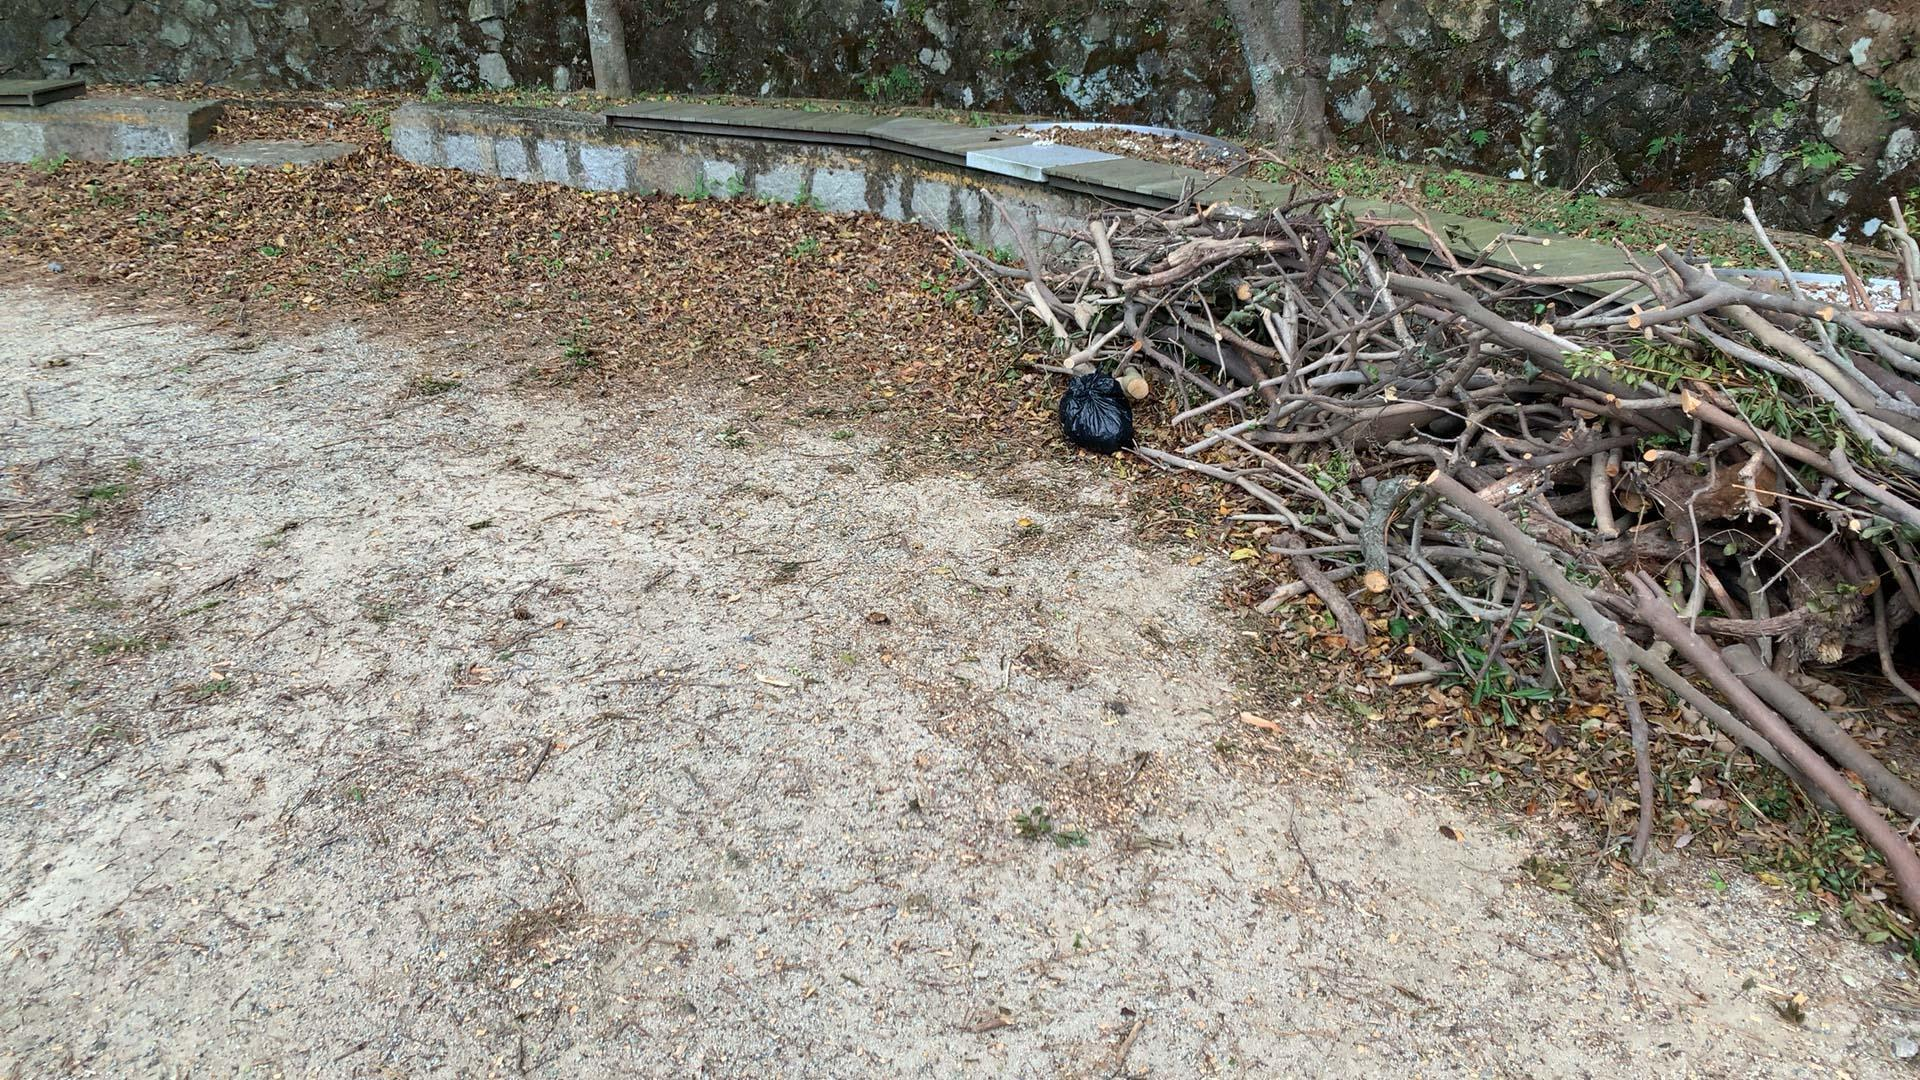black_bag: (1048, 367, 1139, 455)
